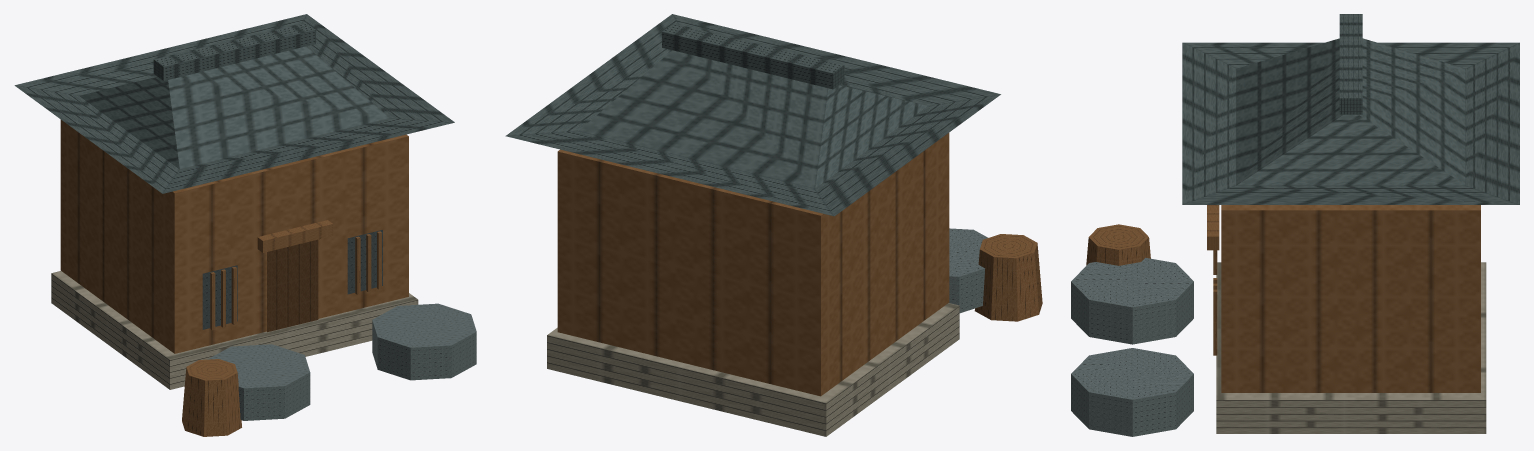
File: domestic-MINT-1-lod1.glb
The picture shows the model from 3 angles, left to right: view 1: azimuth 30°, elevation 25°; view 2: azimuth 150°, elevation 25°; view 3: azimuth 270°, elevation 25°; orthographic projection. The views are drawn at different scales.
Bounding box in the file's own units: 0.5733 × 0.504 × 0.657.
1 material, 1 textured.
